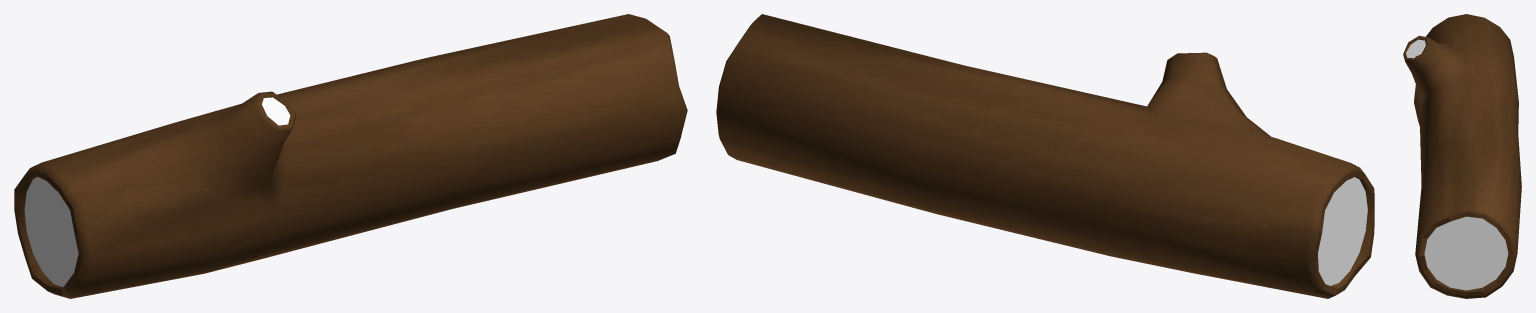
The model's file is Log_5.glb.
3 renders of one model, left to right at view 1: azimuth 30°, elevation 25°; view 2: azimuth 150°, elevation 25°; view 3: azimuth 270°, elevation 25°, orthographic. The views are drawn at different scales.
Visible parts, largest first — view 1: Cylinder.080; view 2: Cylinder.080; view 3: Cylinder.080.
Boxes of the visible parts, left/top/right/bottom form: Cylinder.080: left=14, top=14, right=687, bottom=298; Cylinder.080: left=716, top=14, right=1374, bottom=298; Cylinder.080: left=1403, top=14, right=1521, bottom=298.
Bounding box in the file's own units: 2.41 × 0.706 × 0.5957.
Materials: 2 (1 with a texture image).
